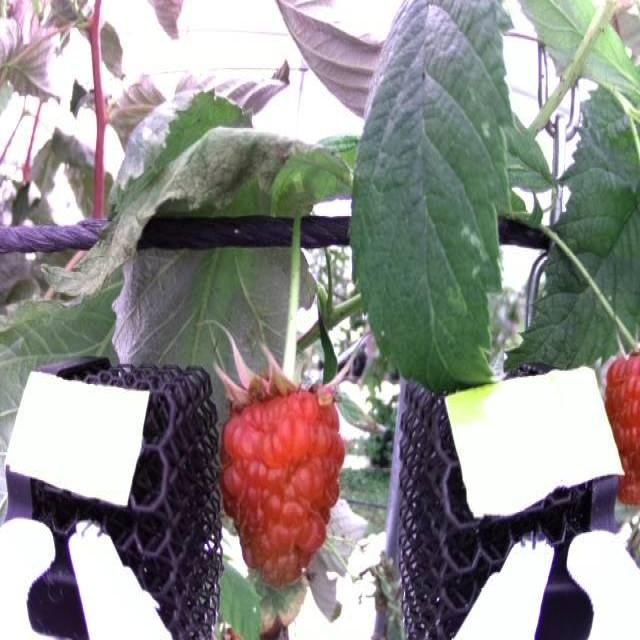Riped berries: (216, 349, 344, 585), (603, 342, 640, 498)
